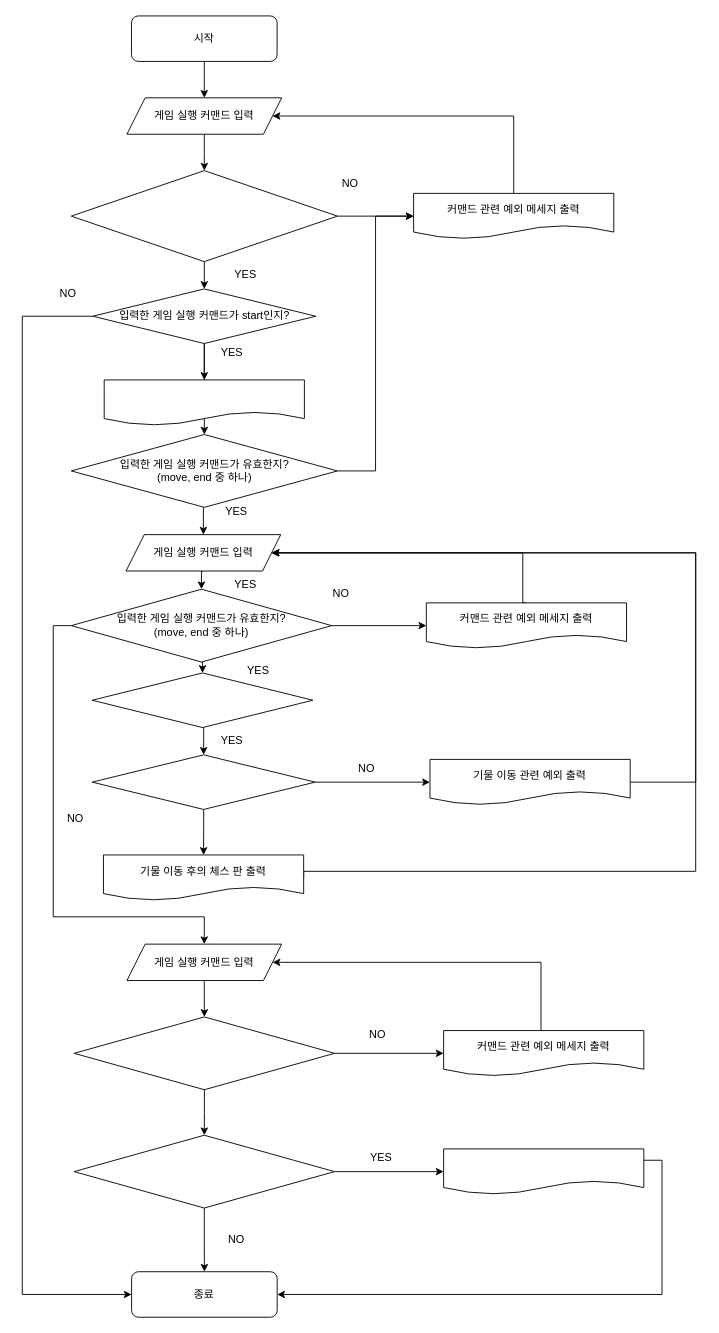
The diagram is 719 pixels wide and 1333 high, and some of its shapes have lost their labels. Each missing label, with the centre of its shape:
"게임 승패 결과, 진영 별 점수 출력" belongs at (x=543, y=1171).
"이동할 수 있는 기물인지?" belongs at (x=203, y=781).
"입력한 게임 실행 커맨드가 move인지?" belongs at (x=202, y=700).
"입력한 게임 실행 커맨드가 status인지?" belongs at (x=204, y=1171).
"입력한 게임 실행 커맨드가 유효한지? (start, end 중 하나)" belongs at (x=203, y=216).
"입력한 게임 실행 커맨드가 유효한지? (status, end 중 하나)" belongs at (x=204, y=1053).
"체스 판 출력 (시작 기준)" belongs at (x=203, y=402).
